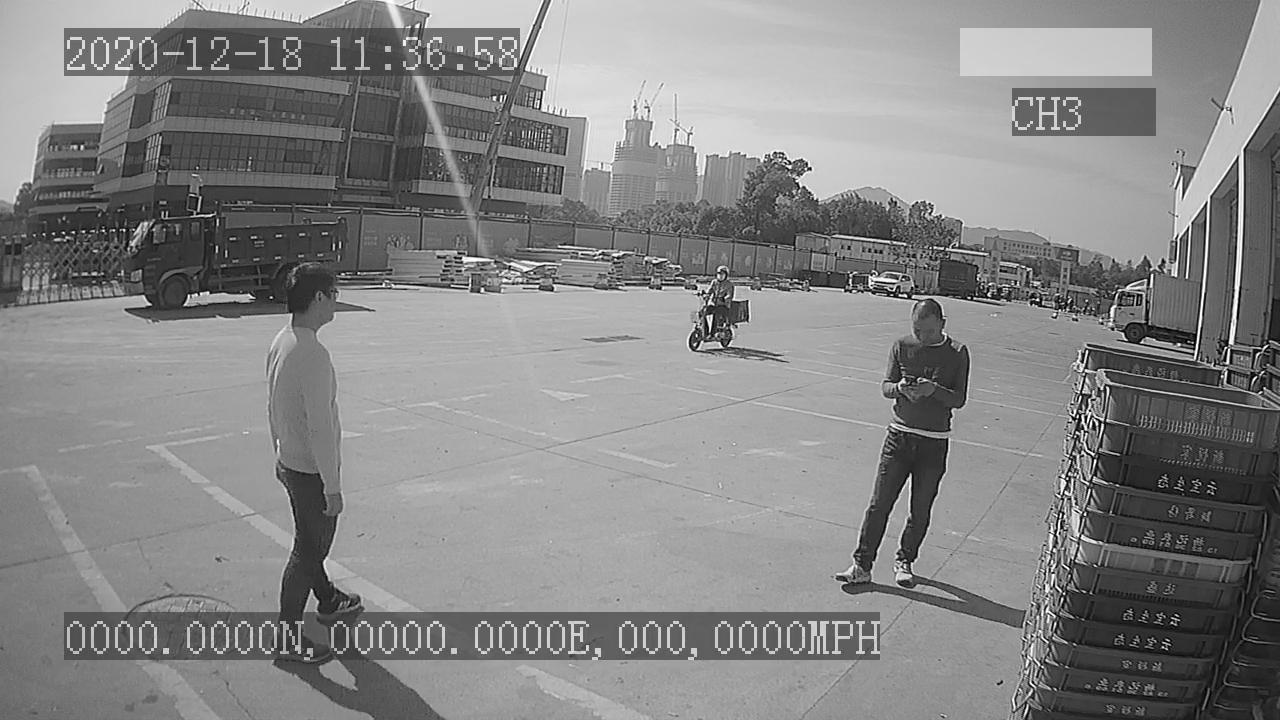person: (835, 295, 972, 591)
